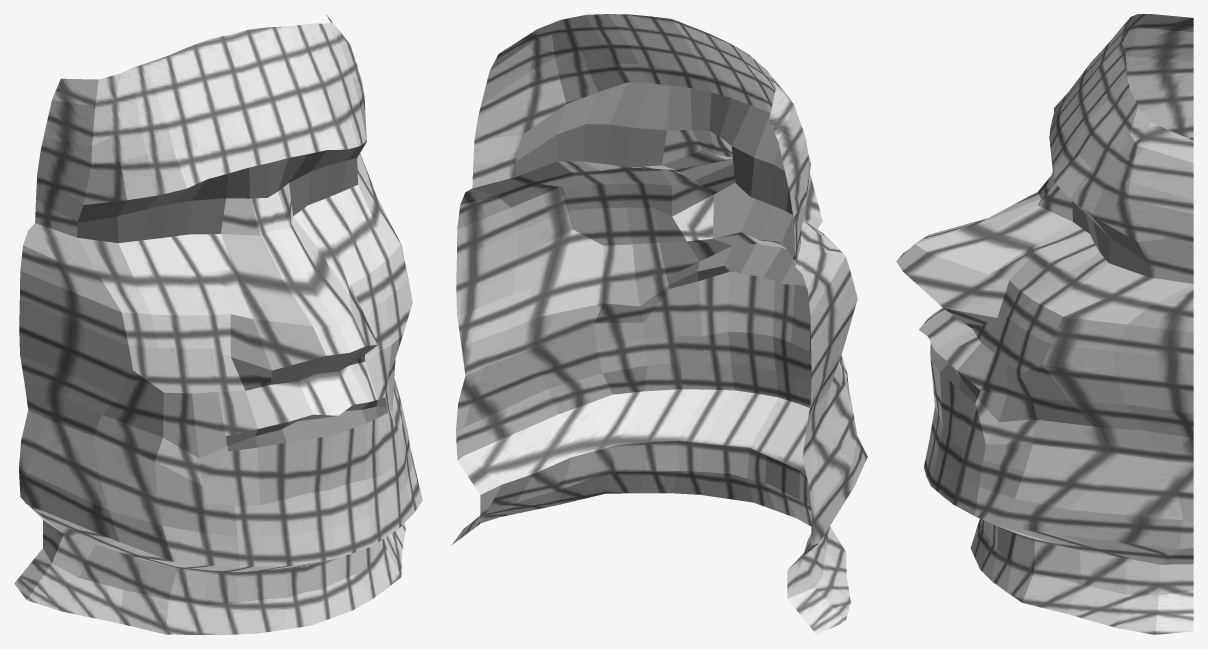
The model's file is doh.glb.
3 views of the same model, side by side, from view 1: azimuth 30°, elevation 25°; view 2: azimuth 150°, elevation 25°; view 3: azimuth 270°, elevation 25° (orthographic). The views are drawn at different scales.
Parts seen in each view (by area): view 1: Plane; view 2: Plane; view 3: Plane.
Part boxes in pixels (box(x1,y1,x2,y2)): Plane: box(14, 14, 422, 634); Plane: box(451, 14, 867, 634); Plane: box(896, 14, 1193, 634).
Size of the model in its own units: 1.4 by 1.9 by 1.01.
Materials: 1 (1 with a texture image).
